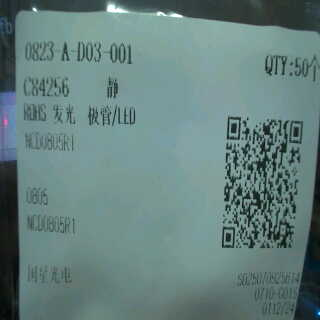LED: (46, 104, 142, 130)
